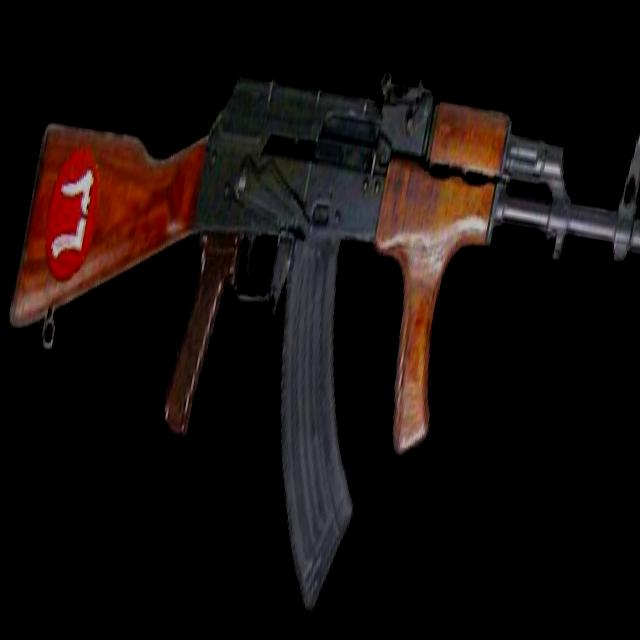long weapon: (0, 6, 639, 639)
